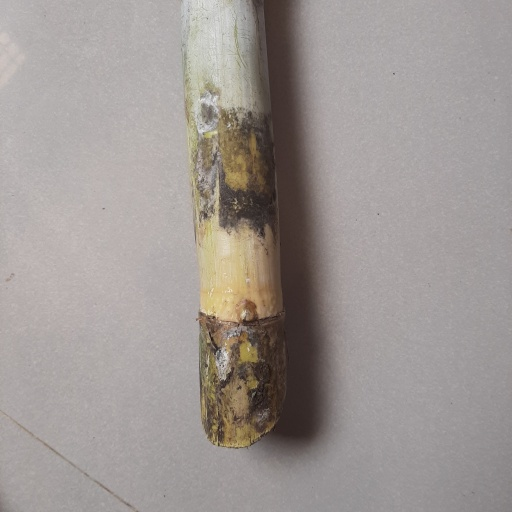Bud: (236, 297, 259, 324)
